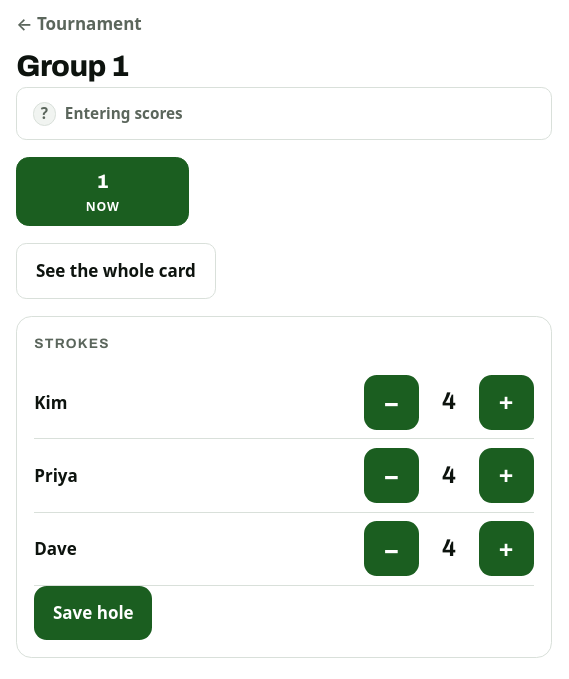
Test: score entry › asks nothing when the strokes settle it
This screenshot has width=569, height=679.
What coordinates should you click on to do the following:
click the button "Save hole"
I would click on:
 (93, 613)
Its box is [34,586,152,640].
(page scrolled)
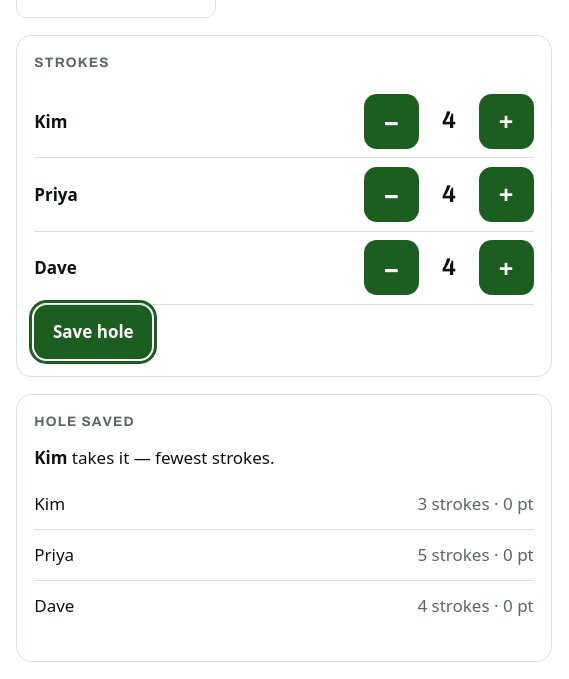
Expected: the text "Kim takes it — fewest strokes." is shown, [34,446,274,469]
